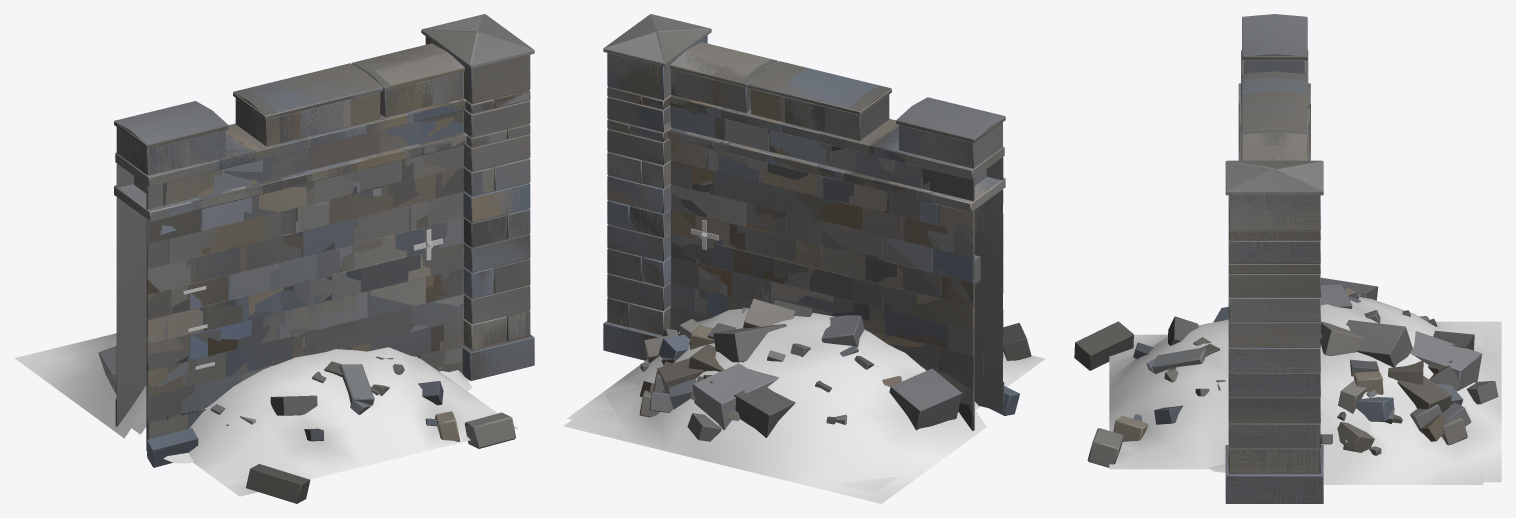
3 renders of one model, left to right at view 1: azimuth 30°, elevation 25°; view 2: azimuth 150°, elevation 25°; view 3: azimuth 270°, elevation 25°, orthographic. The views are drawn at different scales.
Parts seen in each view (by area): view 1: PW_NS_impact_7p00_Stone_LOD1, PW_NS_collapse_7p00_Kit_LOD1, PW_NS_collapse_7p00_Stone_LOD1, PW_NS_intact_a_7p00_Stone_LOD1, PW_NS_merlons_7p00_Stone_LOD1, PW_NS_fill_4p00_ee_Stone_LOD1, PW_NS_repair_7p00_Stone_LOD1, PW_NS_collapse_n_7p00_Stone_LOD1, PW_NS_intact_c_7p00_Stone_LOD1, PW_NS_intact_b_7p00_Stone_LOD1, PW_NS_fill_4p00_se_Stone_LOD1, PW_NS_collapse_n_7p00_Kit_LOD1 (+1 smaller); view 2: PW_NS_collapse_n_7p00_Kit_LOD1, PW_NS_collapse_7p00_Stone_LOD1, PW_NS_impact_7p00_Stone_LOD1, PW_NS_collapse_n_7p00_Stone_LOD1, PW_NS_intact_a_7p00_Stone_LOD1, PW_NS_fill_4p00_ee_Stone_LOD1, PW_NS_intact_b_7p00_Stone_LOD1, PW_NS_repair_7p00_Stone_LOD1, PW_NS_intact_c_7p00_Stone_LOD1, PW_NS_merlons_7p00_Stone_LOD1, PW_NS_fill_4p00_se_Stone_LOD1, PW_NS_collapse_7p00_Kit_LOD1; view 3: PW_NS_collapse_7p00_Stone_LOD1, PW_NS_collapse_n_7p00_Stone_LOD1, PW_NS_collapse_7p00_Kit_LOD1, PW_NS_collapse_n_7p00_Kit_LOD1, PW_NS_fill_4p00_ee_Stone_LOD1, PW_NS_impact_7p00_Stone_LOD1, PW_NS_intact_a_7p00_Stone_LOD1, PW_NS_intact_c_7p00_Stone_LOD1, PW_NS_intact_b_7p00_Stone_LOD1, PW_NS_fill_4p00_se_Stone_LOD1, PW_NS_merlons_7p00_Stone_LOD1, PW_NS_repair_7p00_Stone_LOD1.
Boxes of the visible parts, box(x1,y1,x2,y2) form: PW_NS_impact_7p00_Stone_LOD1: box(114, 14, 529, 467); PW_NS_collapse_7p00_Kit_LOD1: box(41, 347, 517, 496); PW_NS_collapse_7p00_Stone_LOD1: box(114, 30, 534, 503); PW_NS_intact_a_7p00_Stone_LOD1: box(114, 32, 530, 437); PW_NS_merlons_7p00_Stone_LOD1: box(115, 29, 530, 425); PW_NS_fill_4p00_ee_Stone_LOD1: box(246, 32, 533, 374); PW_NS_repair_7p00_Stone_LOD1: box(114, 29, 533, 416); PW_NS_collapse_n_7p00_Stone_LOD1: box(98, 32, 532, 425); PW_NS_intact_c_7p00_Stone_LOD1: box(115, 14, 532, 421); PW_NS_intact_b_7p00_Stone_LOD1: box(114, 32, 530, 439); PW_NS_fill_4p00_se_Stone_LOD1: box(275, 45, 466, 356); PW_NS_collapse_n_7p00_Kit_LOD1: box(14, 333, 146, 438); PW_NS_collapse_n_7p00_Kit_LOD1: box(563, 308, 986, 503); PW_NS_collapse_7p00_Stone_LOD1: box(603, 30, 1031, 437); PW_NS_impact_7p00_Stone_LOD1: box(604, 32, 1019, 416); PW_NS_collapse_n_7p00_Stone_LOD1: box(604, 28, 1002, 441); PW_NS_intact_a_7p00_Stone_LOD1: box(607, 36, 1003, 388); PW_NS_fill_4p00_ee_Stone_LOD1: box(603, 14, 879, 359); PW_NS_intact_b_7p00_Stone_LOD1: box(607, 31, 1004, 396); PW_NS_repair_7p00_Stone_LOD1: box(605, 32, 1005, 430); PW_NS_intact_c_7p00_Stone_LOD1: box(604, 14, 1004, 419); PW_NS_merlons_7p00_Stone_LOD1: box(607, 29, 1003, 403); PW_NS_fill_4p00_se_Stone_LOD1: box(668, 42, 823, 332); PW_NS_collapse_7p00_Kit_LOD1: box(567, 317, 1045, 493); PW_NS_collapse_7p00_Stone_LOD1: box(1074, 83, 1482, 503); PW_NS_collapse_n_7p00_Stone_LOD1: box(1198, 160, 1498, 503); PW_NS_collapse_7p00_Kit_LOD1: box(1109, 319, 1483, 484); PW_NS_collapse_n_7p00_Kit_LOD1: box(1320, 295, 1501, 482); PW_NS_fill_4p00_ee_Stone_LOD1: box(1225, 77, 1323, 503); PW_NS_impact_7p00_Stone_LOD1: box(1213, 14, 1323, 447); PW_NS_intact_a_7p00_Stone_LOD1: box(1228, 57, 1320, 473); PW_NS_intact_c_7p00_Stone_LOD1: box(1226, 61, 1322, 422); PW_NS_intact_b_7p00_Stone_LOD1: box(1228, 50, 1320, 472); PW_NS_fill_4p00_se_Stone_LOD1: box(1242, 91, 1307, 160); PW_NS_merlons_7p00_Stone_LOD1: box(1228, 60, 1321, 296); PW_NS_repair_7p00_Stone_LOD1: box(1226, 17, 1322, 493).
Bounding box in the file's own units: 7.16 × 5.96 × 6.97.
